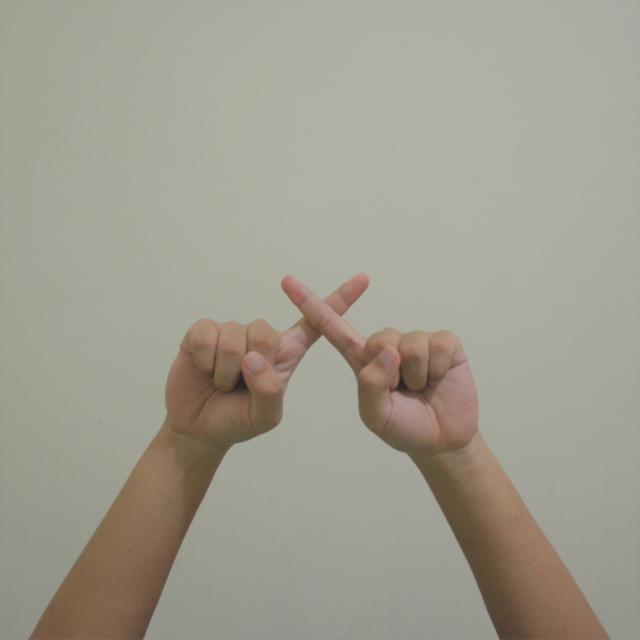X: (141, 246, 511, 515)
